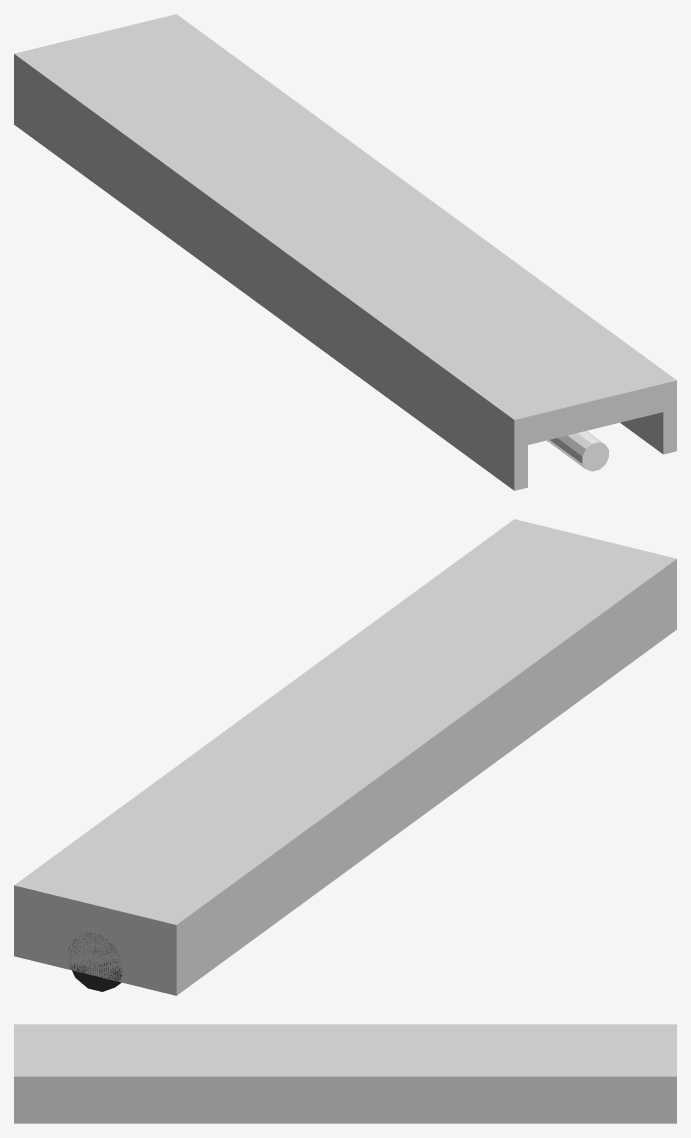
File: nyc_subway_platform_light.obj
3 views of the same model, one above another, from view 1: azimuth 30°, elevation 25°; view 2: azimuth 150°, elevation 25°; view 3: azimuth 270°, elevation 25° (orthographic). The views are drawn at different scales.
Parts seen in each view (by area): view 1: cube, cylinder; view 2: cube, cylinder; view 3: cube.
Boxes of the visible parts, x1,y1,x2,y2 form: cube: [14, 14, 676, 490]; cylinder: [547, 431, 608, 471]; cube: [14, 519, 676, 995]; cylinder: [68, 932, 121, 991]; cube: [14, 1024, 676, 1123].
Bounding box in the file's own units: 0.1875 × 0.0938 × 1.
Materials: 4 (4 with a texture image).
